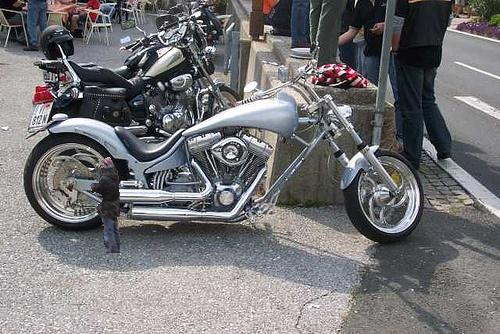tampered: (91, 158, 120, 253)
